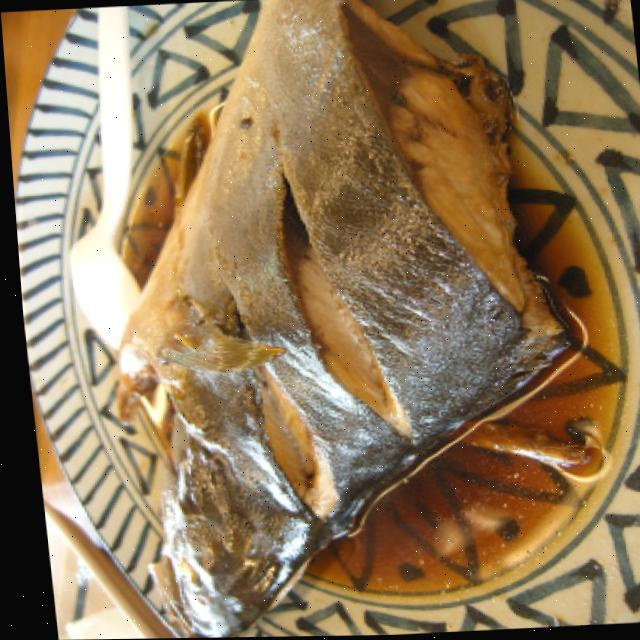熟制海鲜: (26, 0, 637, 640)
